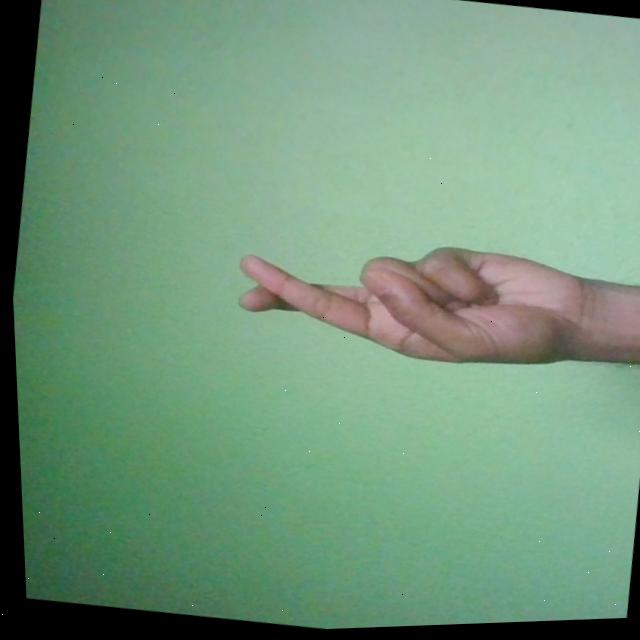Good Luck: (224, 215, 600, 391)
